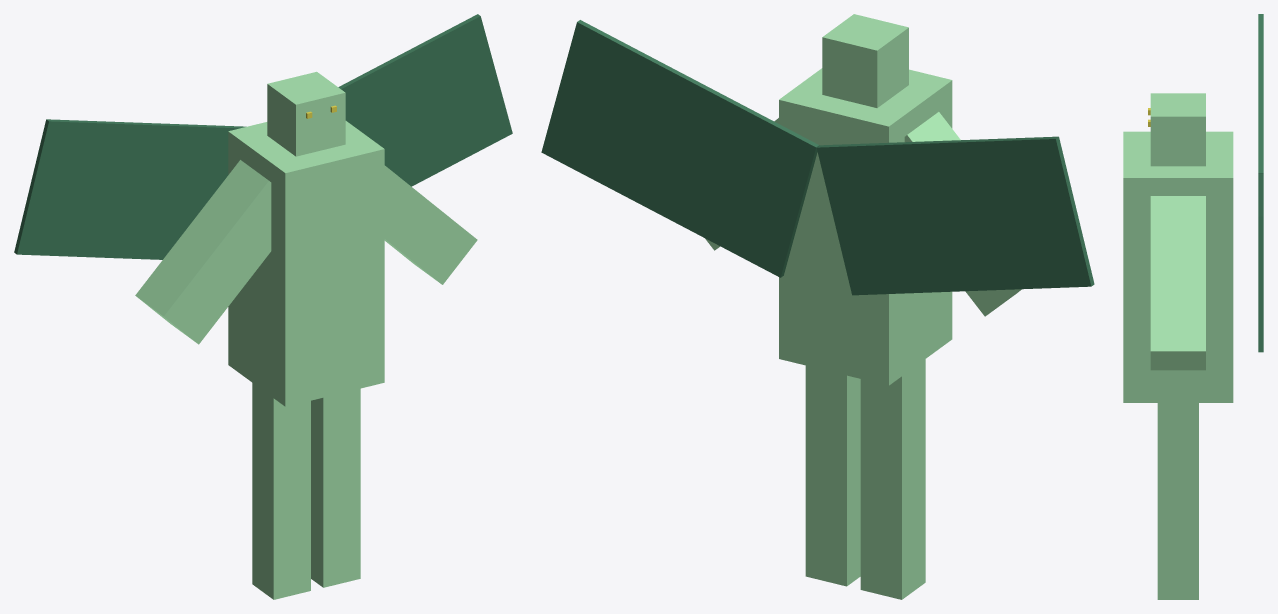
Rendered from Fairy.fbx.
The picture shows the model from 3 angles, left to right: view 1: azimuth 30°, elevation 25°; view 2: azimuth 150°, elevation 25°; view 3: azimuth 270°, elevation 25°; orthographic projection. The views are drawn at different scales.
Visible parts, largest first — view 1: Cube.007, Cube.004, Cube.003; view 2: Cube.007, Cube.003, Cube.004; view 3: Cube.007, Cube.003, Cube.004.
Boxes of the visible parts, x1,y1,x2,y2 form: Cube.007: (135, 71, 477, 599); Cube.004: (14, 119, 246, 259); Cube.003: (338, 14, 512, 186); Cube.007: (705, 14, 1021, 599); Cube.003: (541, 20, 819, 277); Cube.004: (816, 136, 1094, 295); Cube.007: (1123, 93, 1233, 599); Cube.003: (1258, 173, 1263, 352); Cube.004: (1258, 14, 1263, 173).
Bounding box in the file's own units: 200 × 190 × 51.
